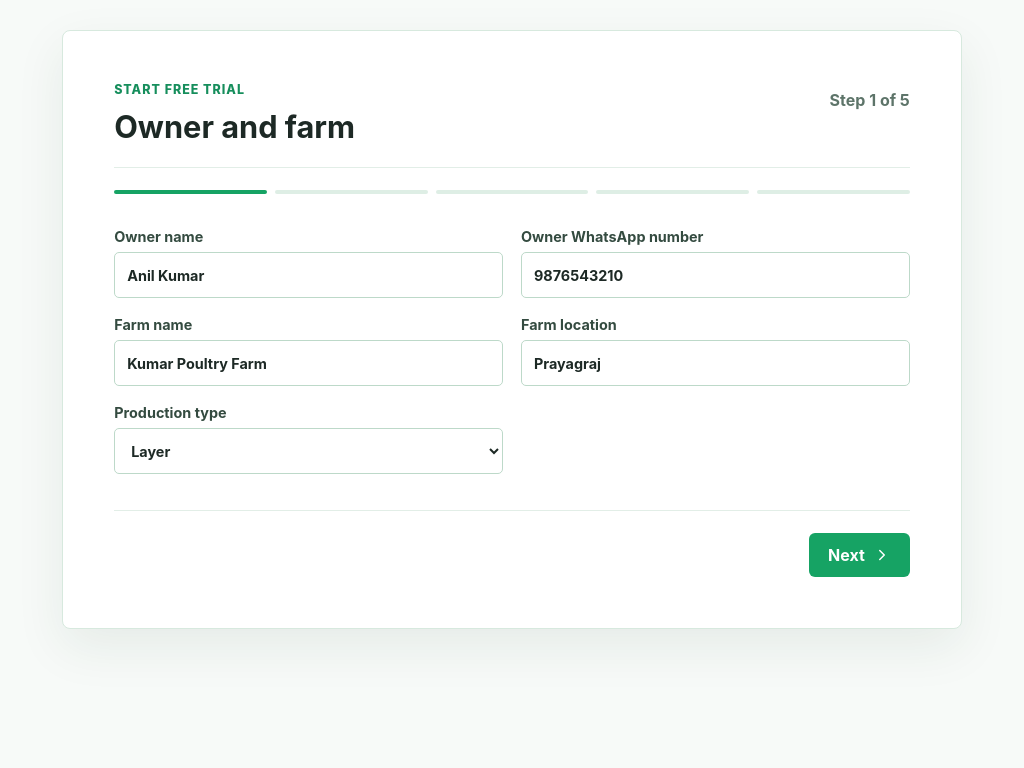
TrialForm › shows owner-worker number conflict before sending data
Click the button "Next" at (859, 555), box [809, 533, 910, 577]
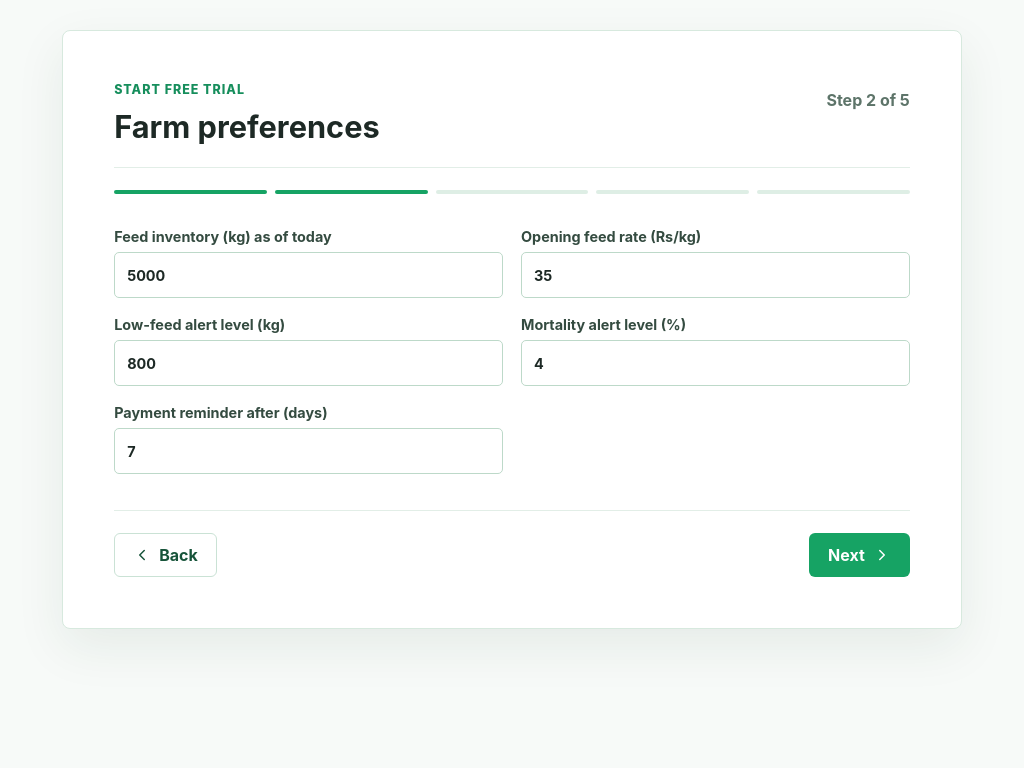
Now the heading "Farm preferences" is shown, box [114, 111, 380, 143]
Click the button "Next" at (859, 555), box [809, 533, 910, 577]
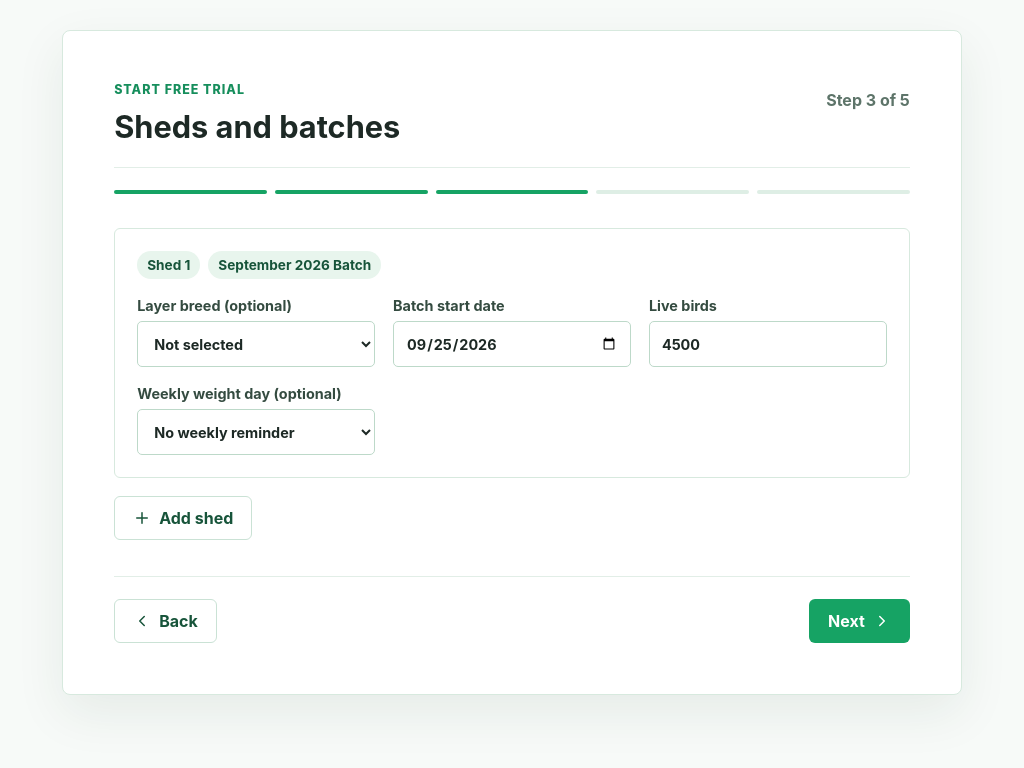
Now the heading "Sheds and batches" is shown, box [114, 111, 400, 143]
Click the button "Next" at (859, 621), box [809, 599, 910, 643]
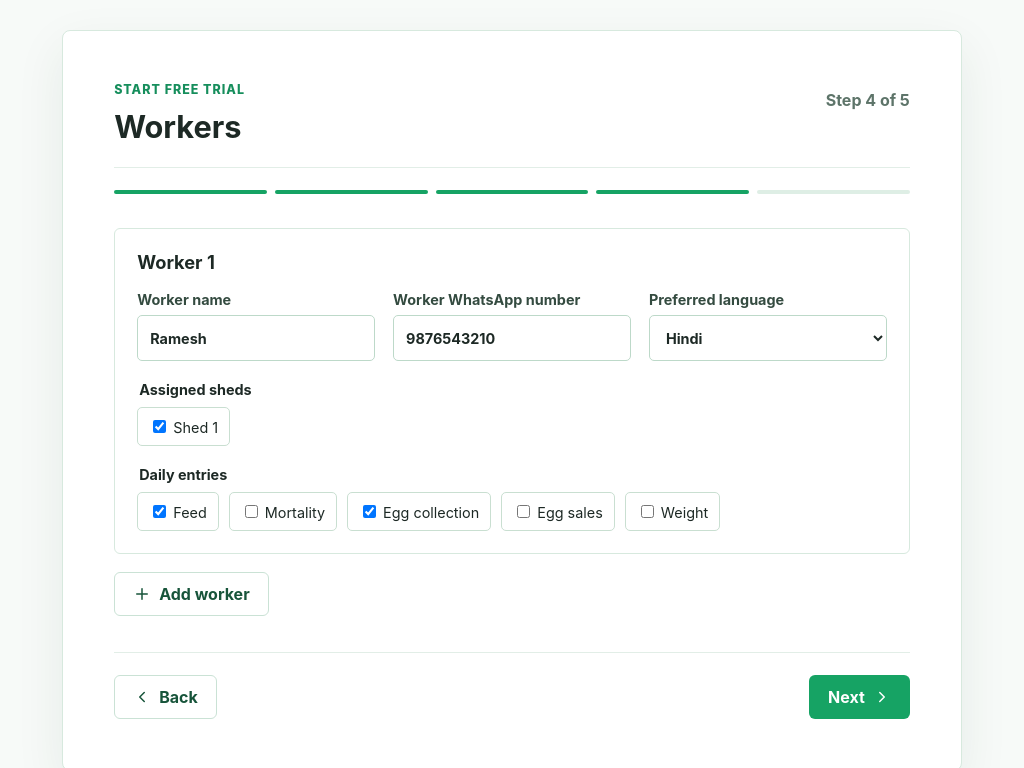
Now the heading "Workers" is shown, box [114, 111, 245, 143]
Click the button "Next" at (859, 697), box [809, 675, 910, 719]
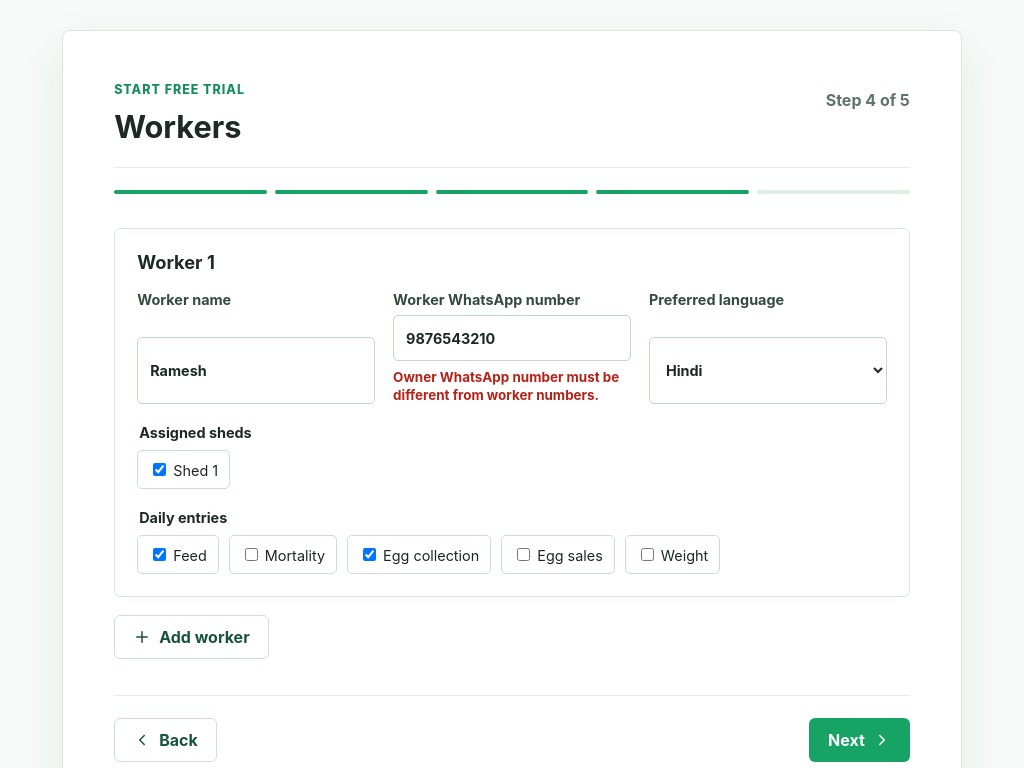
Now the text "Owner WhatsApp number must be different from worker numbers." is shown, box [393, 368, 631, 404]
